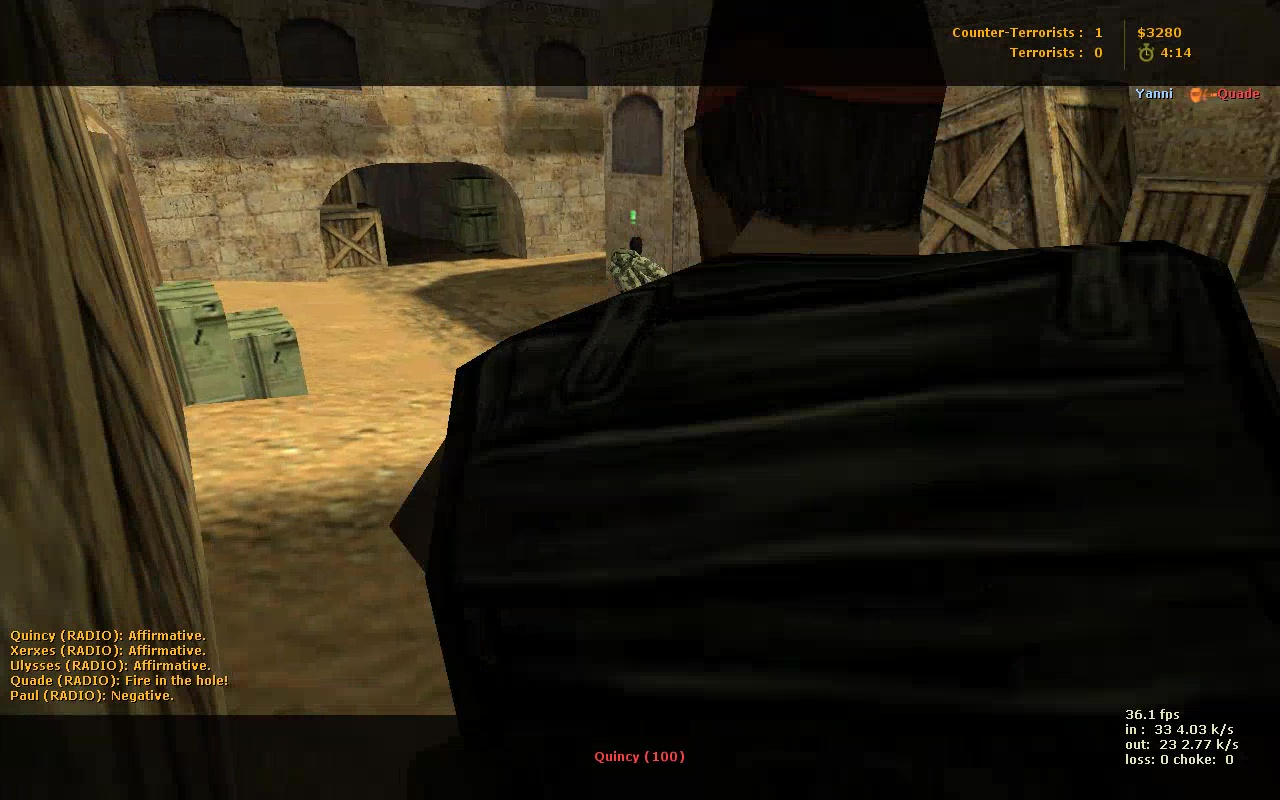terr2: (605, 231, 662, 295)
